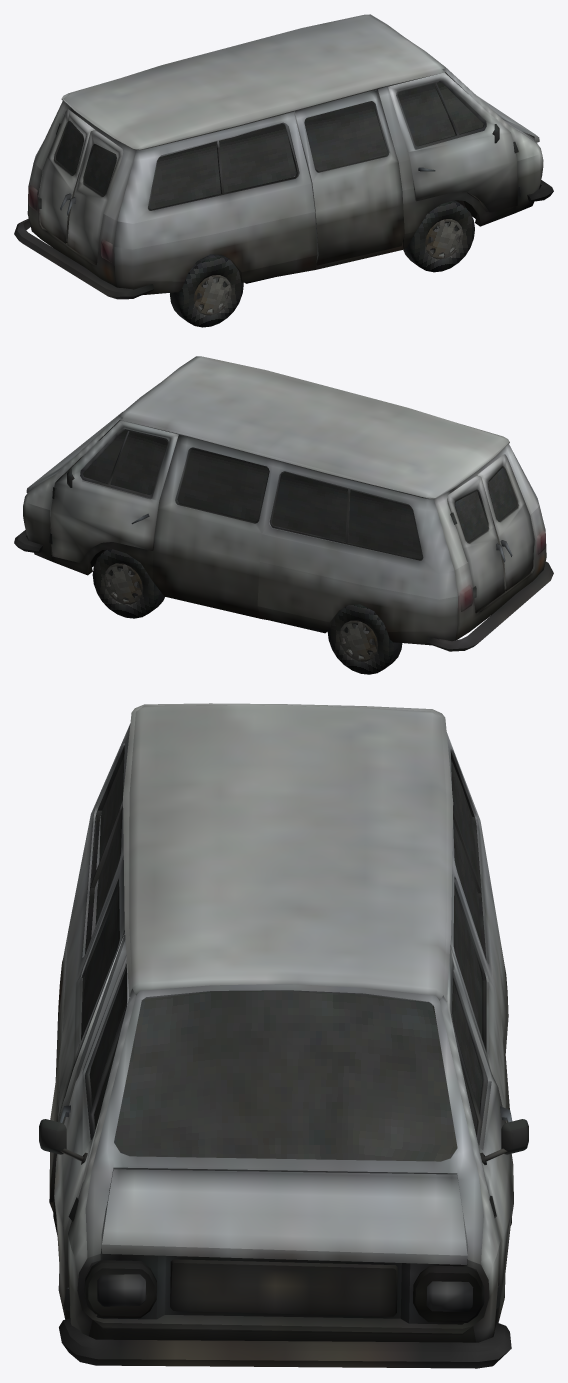
Rendered from Van.fbx.
3 renders of one model, top to bottom at view 1: azimuth 30°, elevation 25°; view 2: azimuth 150°, elevation 25°; view 3: azimuth 270°, elevation 25°, orthographic. The views are drawn at different scales.
Parts seen in each view (by area): view 1: Van, Van Door, Van Back RIght, Van Back Left; view 2: Van, Van Back Left, Van Back RIght; view 3: Van, Van Door.
Part boxes in pixels (<box>): Van: <box>14,14,553,327</box>; Van Door: <box>388,72,517,212</box>; Van Back RIght: <box>67,130,123,264</box>; Van Back Left: <box>39,109,94,243</box>; Van: <box>14,356,553,674</box>; Van Back Left: <box>447,475,505,613</box>; Van Back RIght: <box>476,454,534,590</box>; Van: <box>49,703,528,1368</box>; Van Door: <box>39,955,129,1319</box>.
Size of the model in its own units: 847 by 350 by 401.
Materials: 33 (32 with a texture image).
